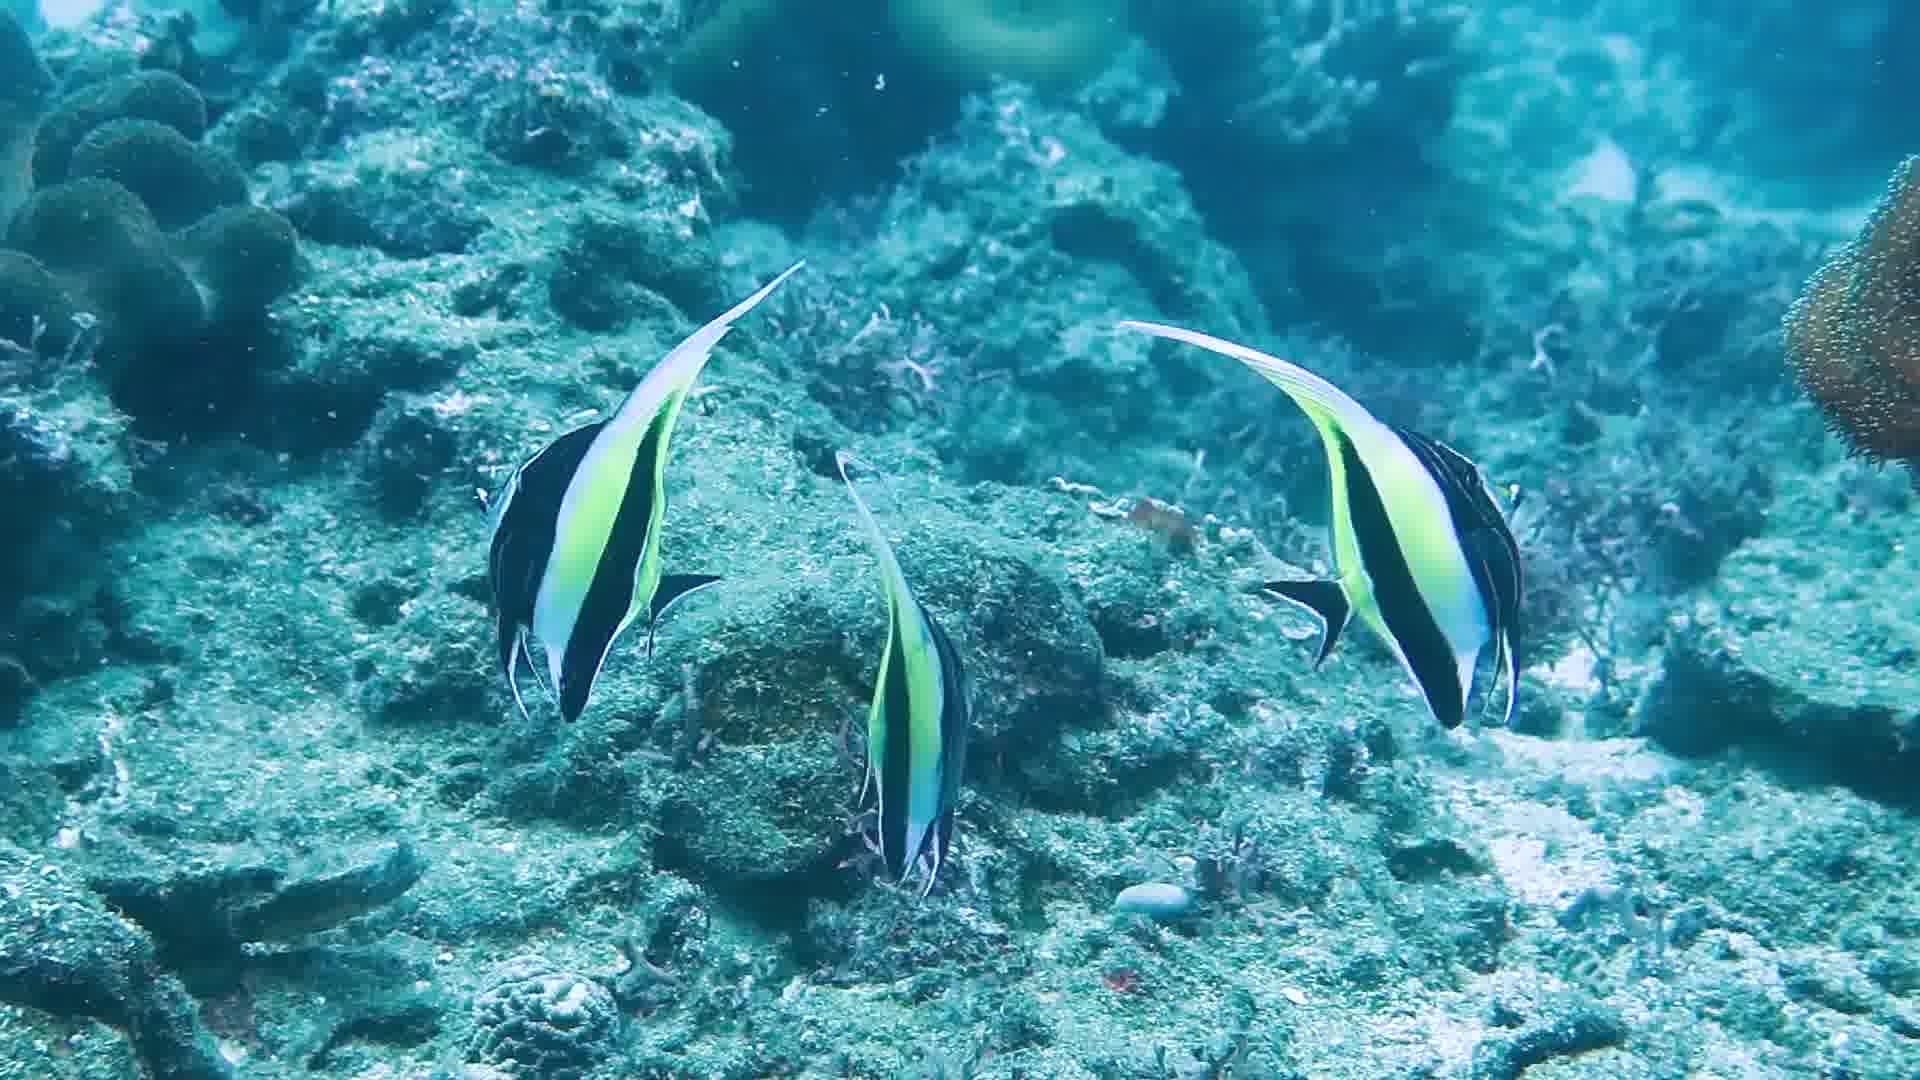Zanclus cornutus: (1246, 351, 1532, 715), (471, 348, 702, 724), (810, 567, 997, 913)
